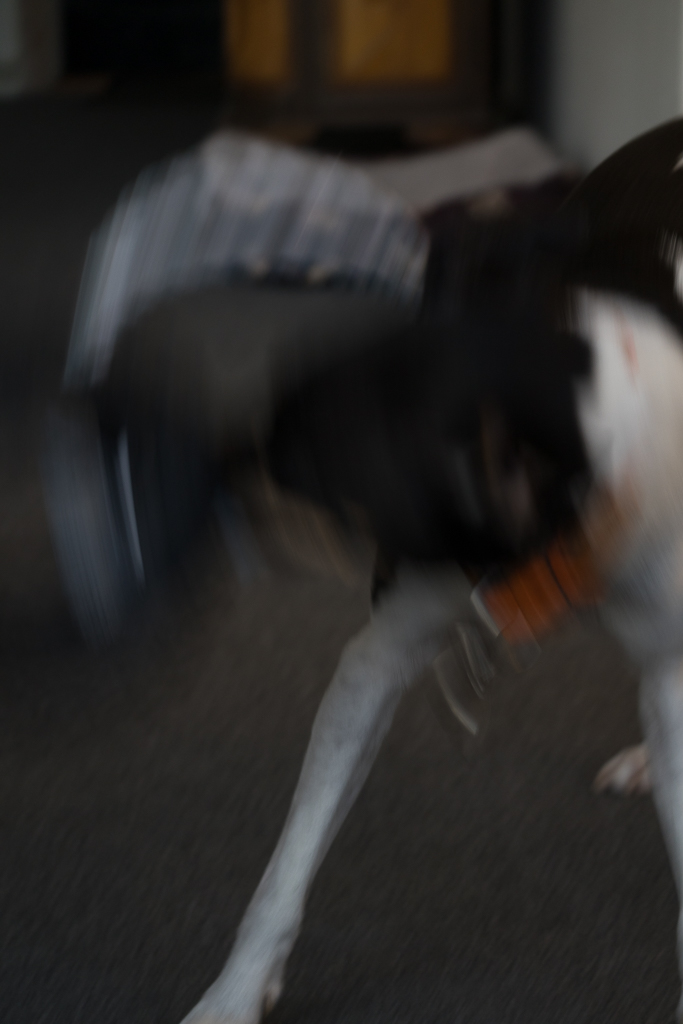Dog: (140, 86, 683, 1024)
